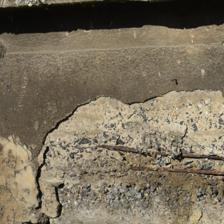Crack: (36, 86, 224, 159), (31, 146, 54, 213), (44, 182, 70, 224)
